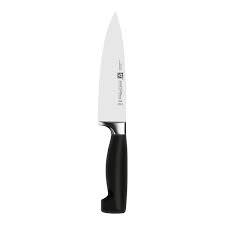Knife: (97, 11, 127, 213)
